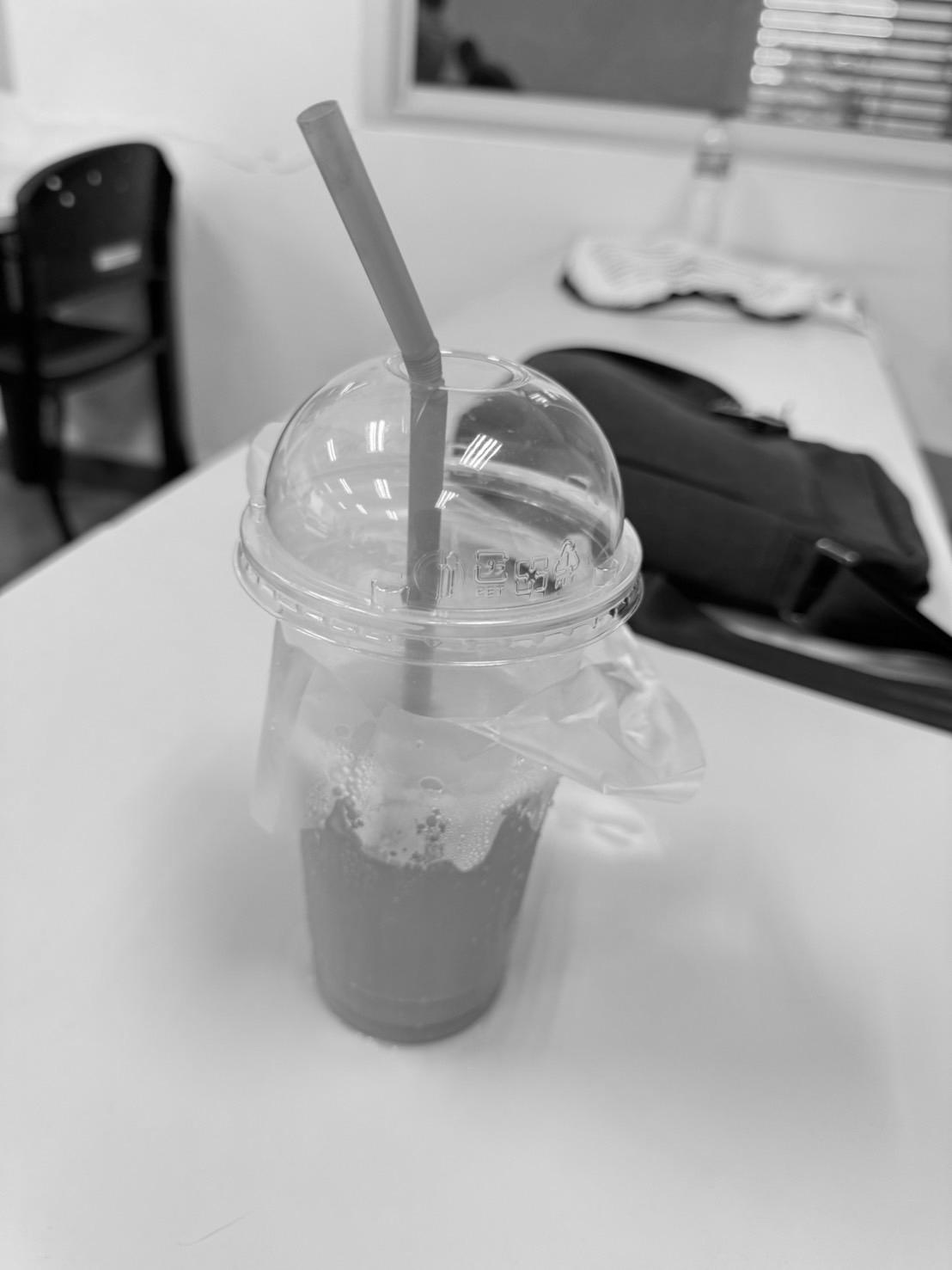glass: (235, 125, 652, 1043)
